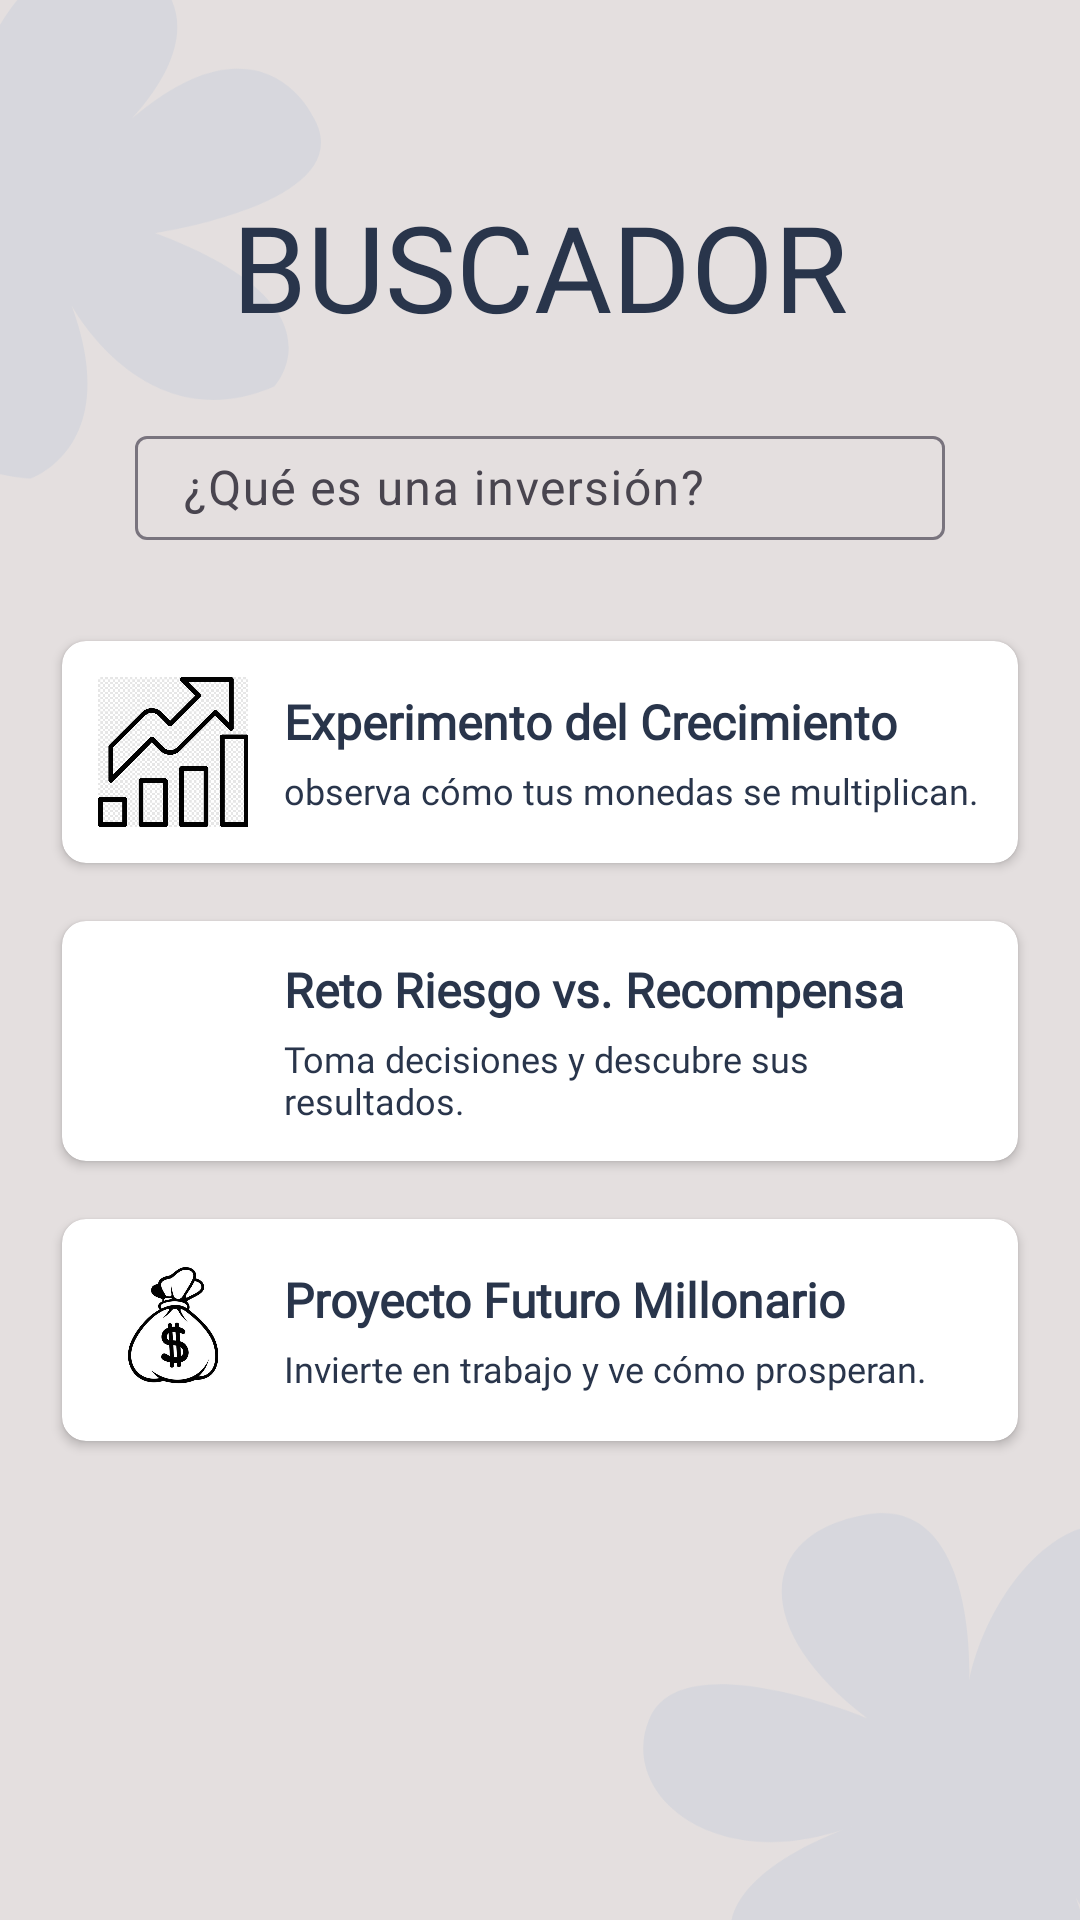

Where to tap for icons on this 1080x1920 app screen, as (x=x, y=y):
dinero: (x=173, y=1325)
